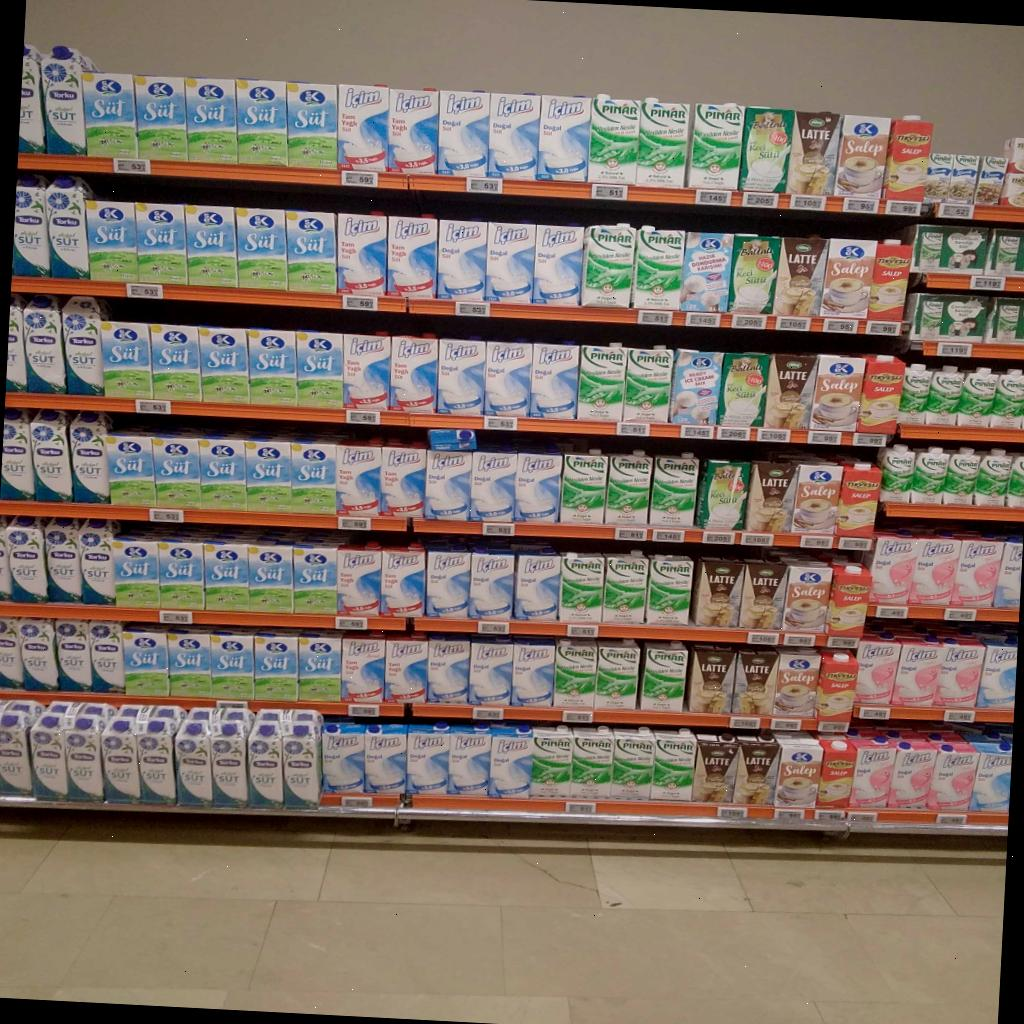price_tag: (591, 183, 629, 201), (774, 315, 812, 332), (340, 170, 378, 187), (113, 158, 151, 175), (694, 189, 732, 206), (466, 177, 503, 194), (741, 192, 779, 208), (886, 200, 921, 217), (842, 198, 879, 214), (790, 195, 827, 211), (345, 409, 381, 425), (342, 295, 378, 311), (126, 283, 162, 299), (938, 204, 973, 220), (455, 302, 490, 318), (823, 318, 858, 334), (732, 313, 767, 329), (866, 320, 900, 336), (135, 400, 171, 415), (564, 800, 597, 816), (937, 343, 972, 358), (637, 310, 672, 325), (483, 416, 518, 431), (562, 708, 594, 724), (471, 706, 505, 721), (159, 610, 193, 625), (481, 522, 515, 537), (971, 276, 1005, 291), (616, 422, 650, 437), (717, 426, 750, 441), (808, 430, 841, 445), (338, 516, 371, 531), (944, 607, 977, 622), (702, 530, 735, 545), (680, 425, 715, 439), (149, 509, 184, 523), (686, 313, 721, 327), (747, 631, 779, 646), (757, 428, 791, 442), (478, 620, 509, 635), (336, 616, 367, 631), (741, 533, 774, 547), (875, 605, 908, 619), (652, 529, 685, 543), (801, 535, 834, 549), (837, 537, 872, 550), (935, 813, 967, 827), (567, 624, 599, 638), (348, 704, 380, 718), (341, 796, 373, 810), (853, 433, 887, 446), (730, 716, 761, 730), (717, 806, 748, 820), (614, 528, 647, 541), (943, 710, 976, 723), (858, 707, 890, 720), (827, 637, 859, 650), (784, 634, 815, 647), (771, 718, 801, 731), (814, 809, 846, 821), (847, 811, 878, 823), (818, 722, 849, 734), (215, 699, 248, 710), (775, 808, 805, 819)
product: (31, 702, 115, 802), (102, 706, 185, 805), (173, 709, 252, 808), (247, 710, 323, 810), (41, 46, 98, 155), (45, 176, 92, 280), (688, 104, 744, 190), (587, 94, 639, 185), (636, 98, 689, 187), (83, 73, 138, 158), (739, 107, 794, 192), (834, 115, 890, 198), (134, 75, 188, 161), (787, 111, 842, 195), (0, 698, 46, 798), (581, 224, 635, 308), (488, 93, 540, 180), (537, 95, 589, 182), (186, 78, 238, 164), (387, 88, 439, 174), (237, 79, 288, 166), (23, 296, 68, 394), (287, 82, 337, 170), (808, 355, 865, 431), (136, 202, 188, 285), (438, 91, 488, 177), (236, 208, 288, 290), (339, 84, 388, 171), (773, 238, 827, 316), (633, 227, 684, 309), (1, 516, 49, 603), (690, 558, 750, 627), (821, 239, 874, 317), (186, 205, 237, 286), (386, 217, 437, 298), (884, 117, 933, 201), (680, 233, 732, 312), (101, 320, 153, 399), (62, 296, 103, 396), (104, 431, 157, 508), (694, 460, 752, 530), (485, 222, 535, 303), (87, 202, 138, 281), (287, 211, 336, 293), (908, 293, 990, 342), (576, 343, 628, 420), (31, 409, 74, 502), (337, 214, 386, 295), (437, 220, 486, 301), (534, 225, 583, 306), (855, 356, 905, 435), (12, 175, 51, 276), (764, 355, 817, 429), (730, 236, 780, 313), (152, 324, 202, 401), (199, 327, 249, 404), (248, 329, 298, 406), (389, 334, 437, 413), (671, 351, 722, 425), (623, 346, 672, 423), (649, 453, 699, 528), (437, 337, 485, 415), (925, 743, 979, 812), (530, 342, 579, 418), (559, 449, 608, 525), (718, 353, 769, 426), (890, 637, 943, 707), (950, 539, 1004, 607), (76, 519, 119, 604), (870, 536, 922, 606), (849, 735, 898, 809), (778, 565, 831, 633), (909, 536, 961, 605), (916, 226, 989, 275), (605, 450, 652, 526), (638, 641, 688, 712), (934, 640, 985, 709), (345, 333, 390, 411), (687, 644, 737, 714), (297, 332, 343, 408), (113, 536, 162, 607), (602, 552, 649, 626), (424, 449, 472, 521), (485, 341, 531, 416), (869, 241, 912, 321), (513, 453, 562, 523), (746, 462, 795, 532), (790, 465, 841, 532), (200, 436, 246, 510), (825, 564, 871, 638), (887, 741, 937, 809), (775, 735, 822, 807), (645, 556, 693, 626), (816, 651, 858, 731), (246, 439, 292, 512), (487, 725, 533, 798), (152, 437, 199, 508), (469, 450, 516, 521), (651, 729, 697, 801), (692, 734, 740, 803), (0, 407, 35, 501), (380, 447, 427, 517), (569, 726, 614, 799), (610, 727, 655, 800), (70, 421, 110, 503), (469, 549, 515, 620), (733, 733, 779, 804), (514, 551, 561, 620), (122, 627, 169, 696), (380, 544, 425, 616), (426, 547, 471, 619), (337, 443, 381, 516), (406, 722, 450, 795), (837, 463, 881, 536), (158, 541, 205, 609), (45, 517, 82, 603), (447, 723, 490, 797), (558, 553, 604, 622), (739, 562, 787, 628), (468, 636, 513, 706), (292, 442, 335, 515), (529, 726, 572, 799), (773, 650, 819, 718), (338, 544, 381, 616), (364, 724, 407, 796), (969, 741, 1012, 813), (553, 639, 597, 709), (595, 640, 639, 710), (248, 545, 293, 613), (18, 44, 46, 153), (294, 546, 338, 615), (510, 638, 554, 707), (341, 633, 384, 703), (322, 724, 365, 794), (205, 543, 249, 611), (254, 633, 298, 701), (211, 629, 254, 698), (857, 639, 901, 705), (299, 633, 341, 702), (428, 635, 470, 704), (733, 650, 778, 714), (19, 619, 59, 690), (385, 635, 427, 702), (817, 737, 856, 809), (976, 642, 1017, 709), (55, 620, 92, 692), (87, 621, 124, 693), (169, 634, 211, 697), (923, 365, 963, 425), (973, 448, 1012, 506), (910, 447, 949, 504), (6, 294, 28, 393), (942, 448, 980, 505), (959, 367, 996, 425), (993, 540, 1023, 609), (879, 444, 914, 502), (991, 369, 1024, 429), (984, 298, 1024, 344), (899, 364, 931, 421), (986, 229, 1024, 276), (0, 617, 23, 688), (975, 156, 1006, 205), (925, 153, 953, 202), (950, 154, 977, 203), (1007, 453, 1024, 507), (0, 527, 12, 601), (1000, 173, 1024, 208), (1004, 137, 1024, 174)
